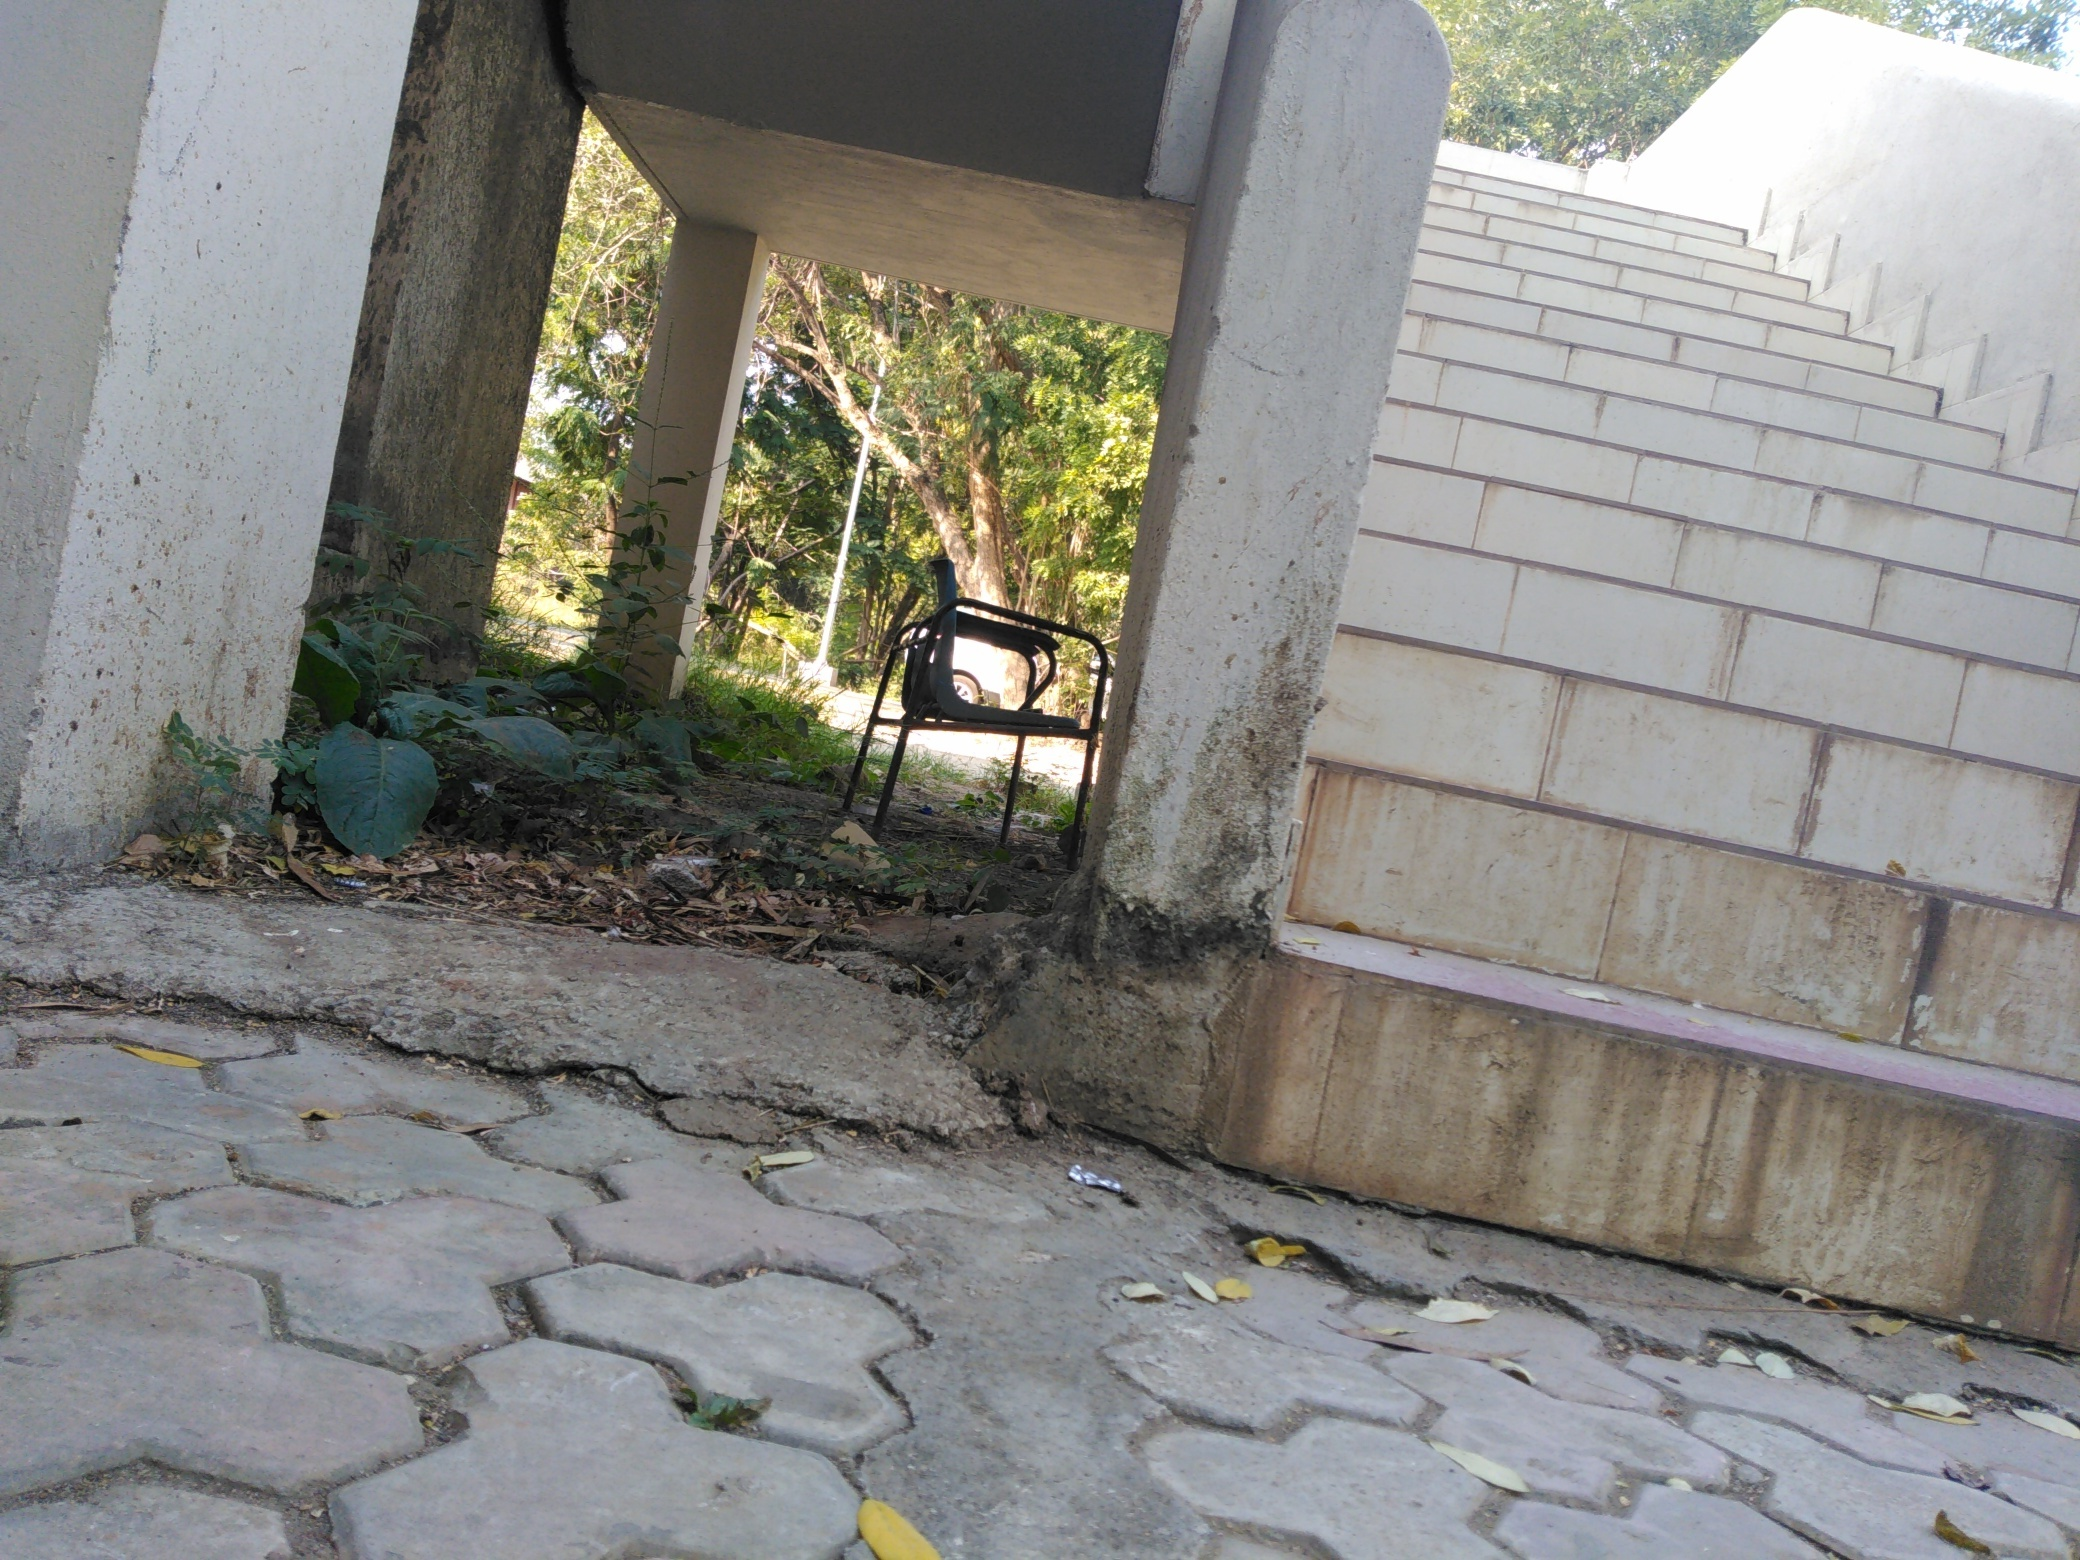stairs_up: (1304, 141, 2080, 1370)
